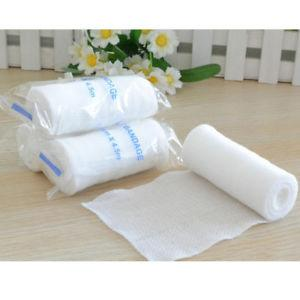bandage: (78, 124, 299, 261)
